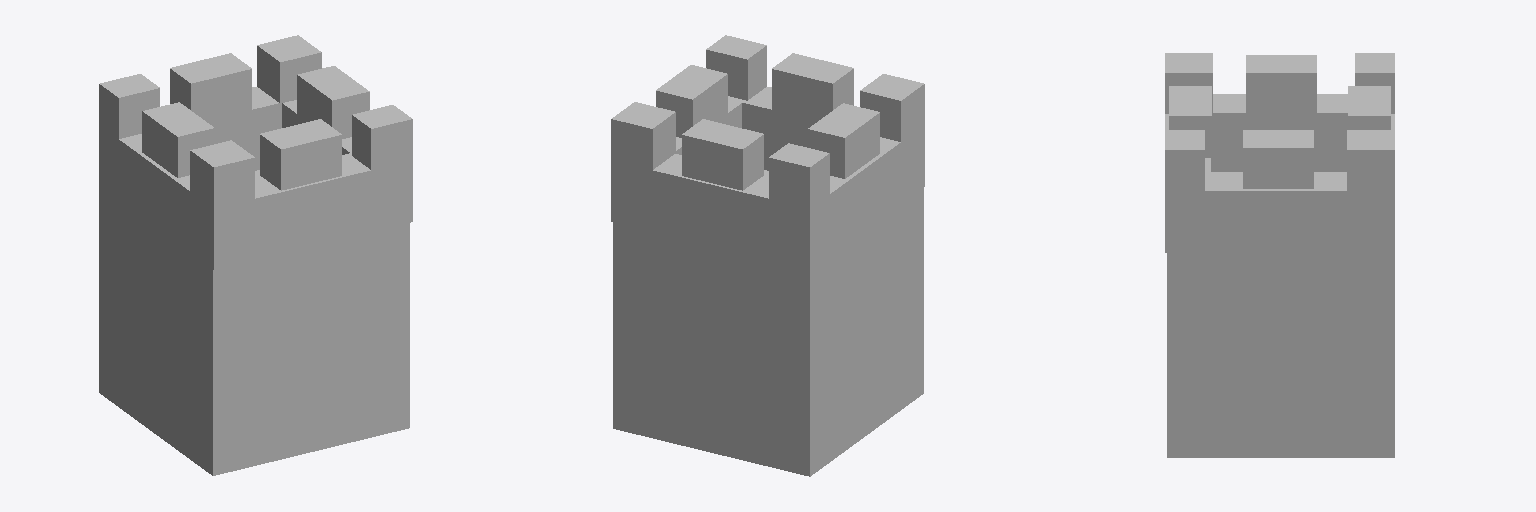
The model's file is Castle.obj.
3 renders of one model, left to right at view 1: azimuth 30°, elevation 25°; view 2: azimuth 150°, elevation 25°; view 3: azimuth 270°, elevation 25°, orthographic.
Parts seen in each view (by area): view 1: mergedBlocks; view 2: mergedBlocks; view 3: mergedBlocks.
Boxes of the visible parts, x1,y1,x2,y2 form: mergedBlocks: [99, 35, 412, 475]; mergedBlocks: [611, 35, 924, 476]; mergedBlocks: [1165, 53, 1394, 457].
Size of the model in its own units: 1.01 by 1.5 by 1.01.